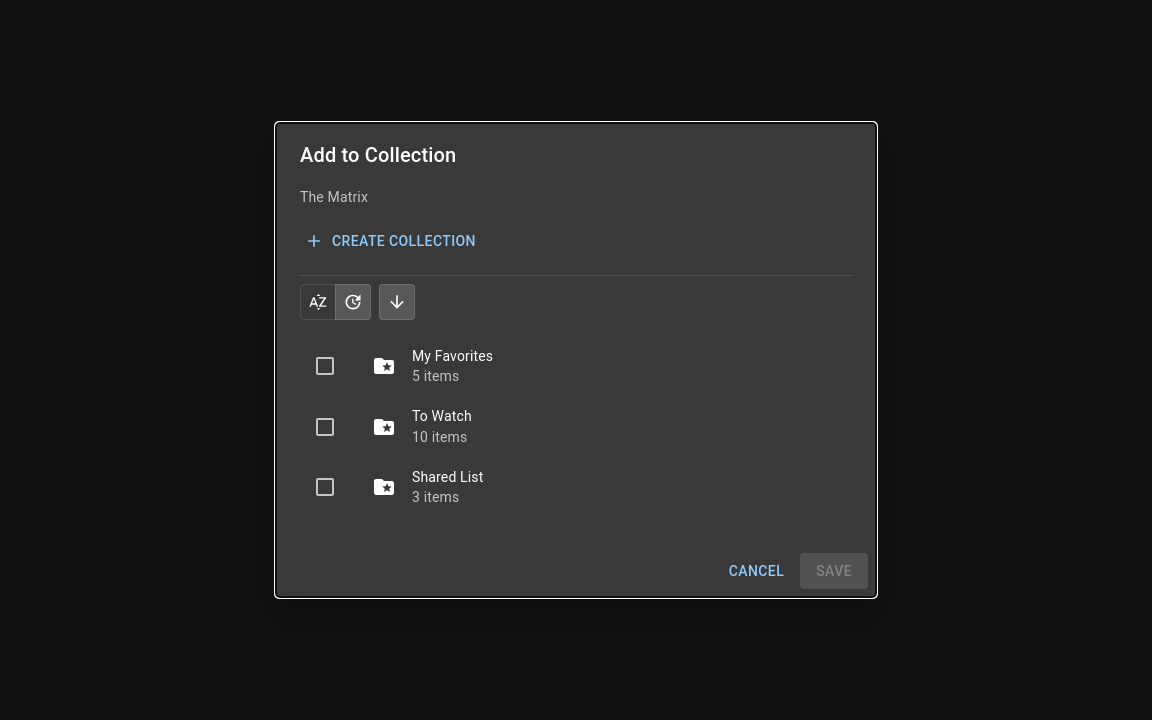
Test case: AddToCollectionDialog › selection › allows deselecting a collection
Click the text "My Favorites". click: [453, 356]
box: [412,348,493,364]
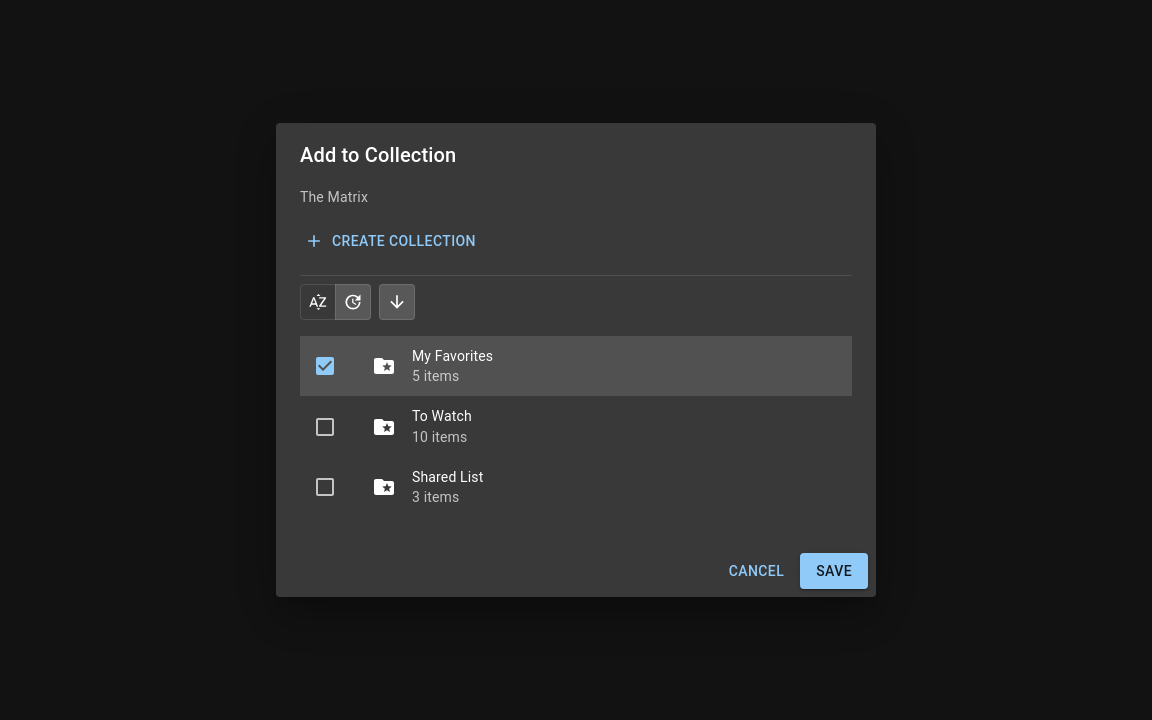
Expected: the 1st checkbox is checked, [313,354,337,378]
Click the text "My Favorites". click: [453, 356]
box: [412,348,493,364]
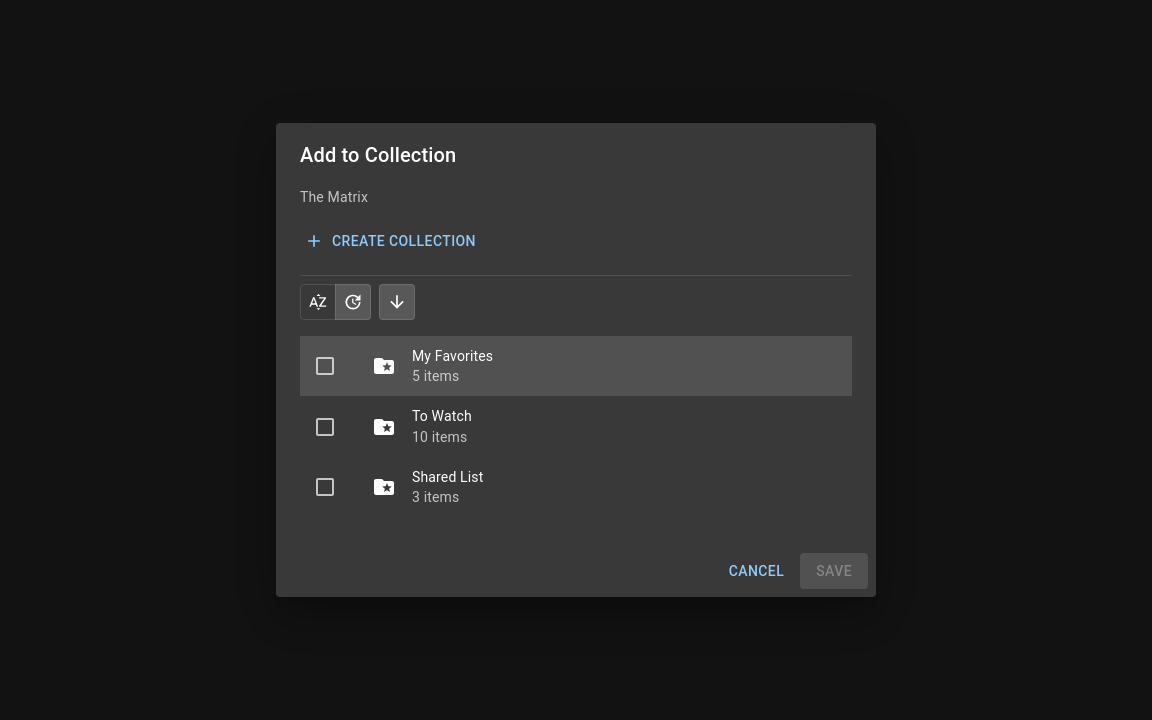
Expected: the 1st checkbox is not checked, [313,354,337,378]
